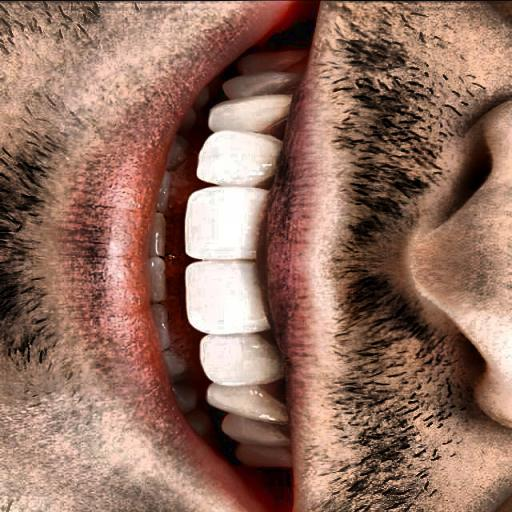Healthy: (95, 40, 347, 468)
